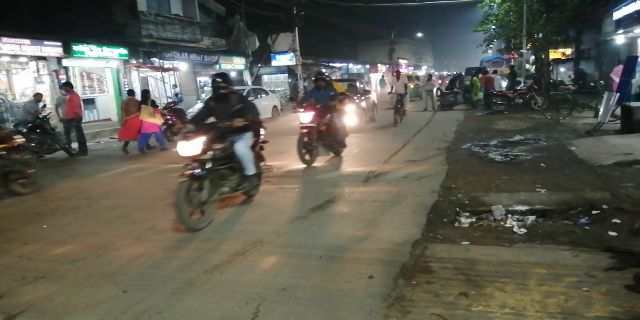Car: (329, 77, 386, 133), (238, 86, 282, 122)
Motorbike: (168, 70, 268, 230), (288, 68, 352, 169)
